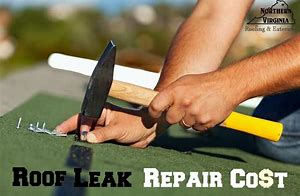hammer: (77, 38, 285, 143)
